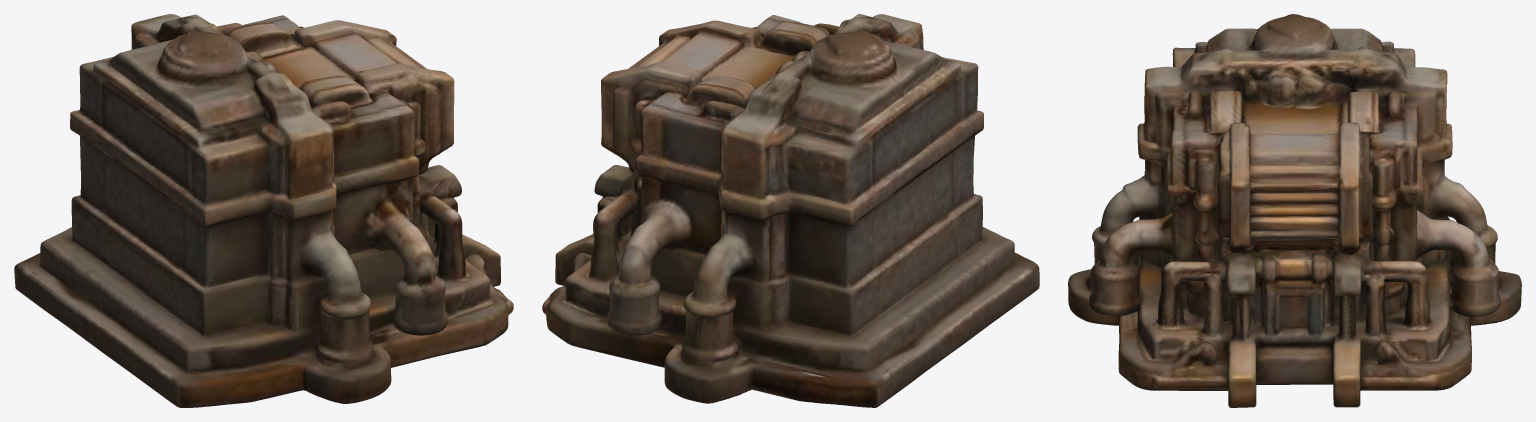
The model's file is import-1780595153942-generator.web.webp.glb.
3 renders of one model, left to right at view 1: azimuth 30°, elevation 25°; view 2: azimuth 150°, elevation 25°; view 3: azimuth 270°, elevation 25°, orthographic. The views are drawn at different scales.
Bounding box in the file's own units: 0.1994 × 0.1478 × 0.2258.
Materials: 1 (1 with a texture image).
